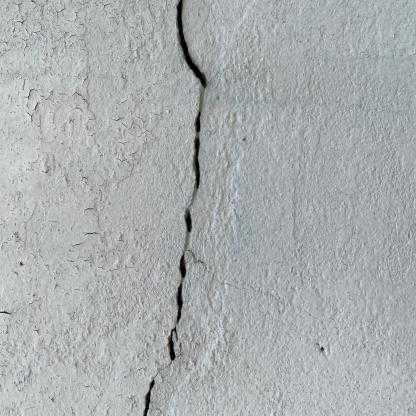crack: (165, 2, 211, 360), (137, 378, 156, 414)
